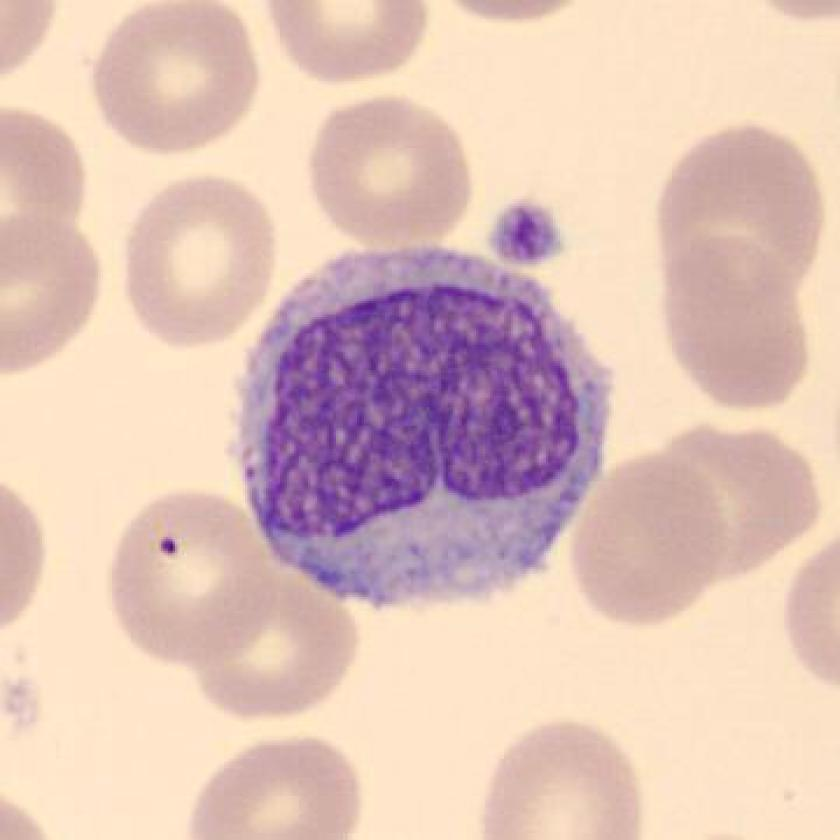monocyte: (216, 226, 626, 635)
